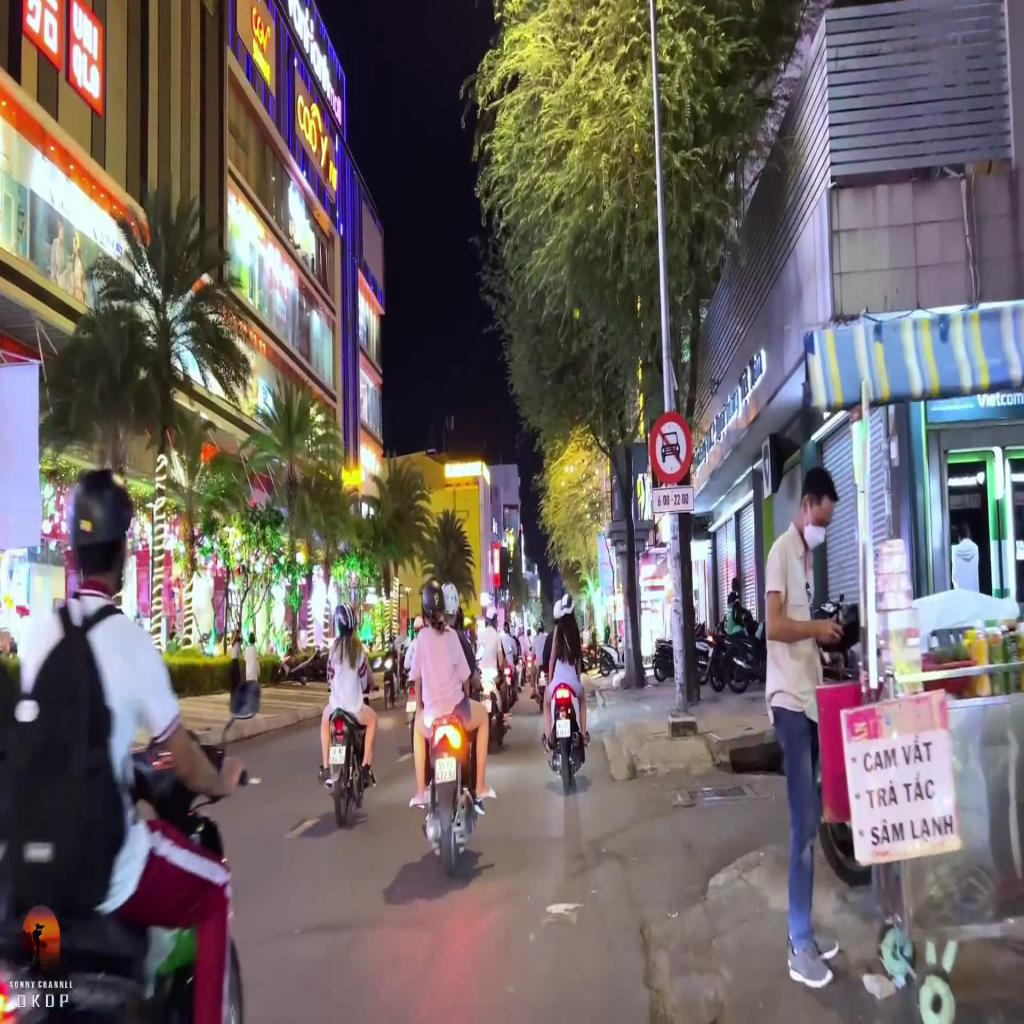cam_o_to: (649, 410, 692, 482)
khac: (652, 487, 694, 512)
